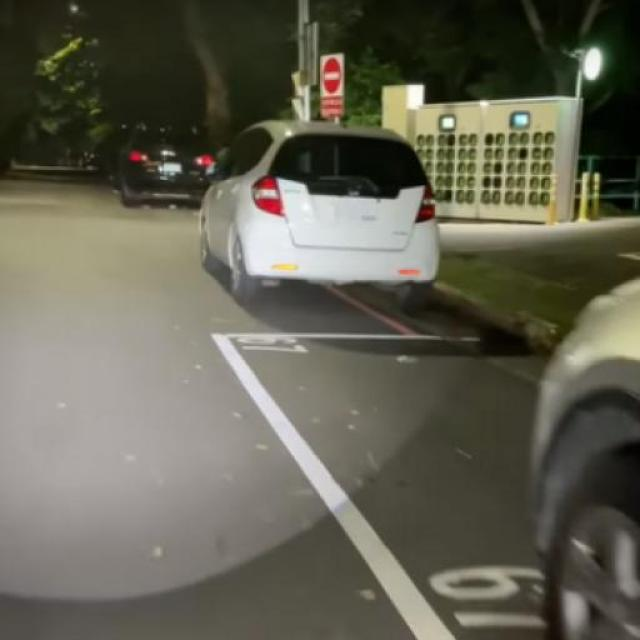Legalparking: (90, 93, 484, 363)
